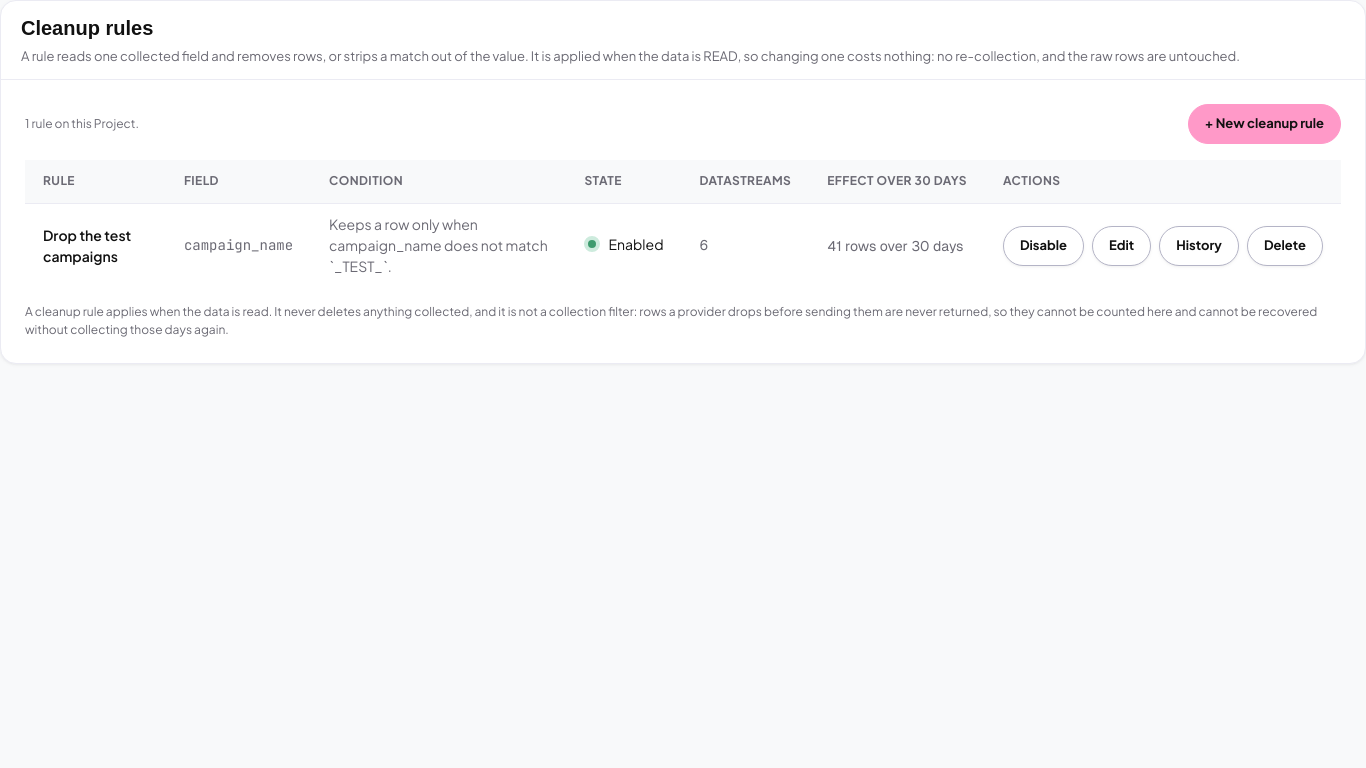
Scenario: the recorded history of a cleanup rule › says « no version yet » when the ledger answered and holds none
Click the button with test id "history-crule_1" at (1199, 246), box [1159,226,1239,266]
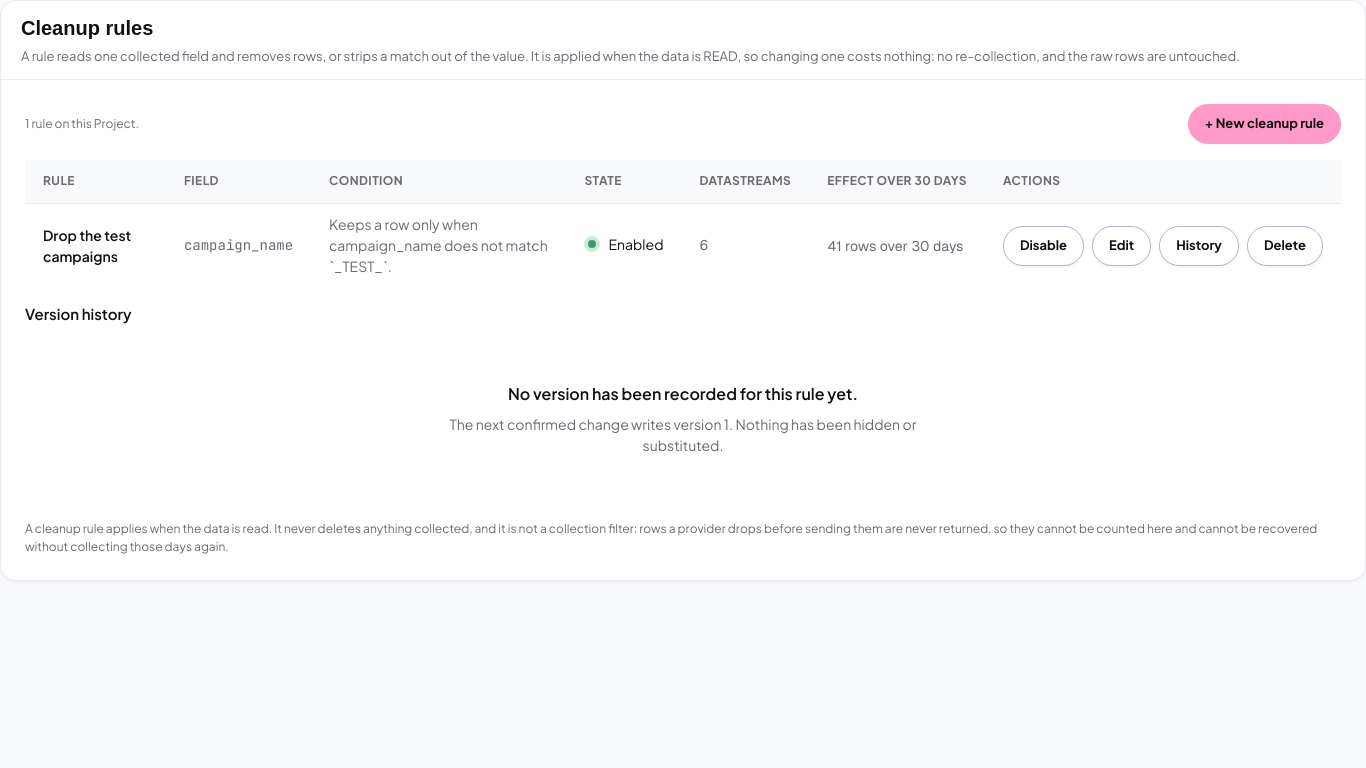
Now the text "No version has been recorded for this rule yet." is shown, box [508,382,858,406]
Now the text with test id "version-history-empty" is shown, box [450,414,916,454]
